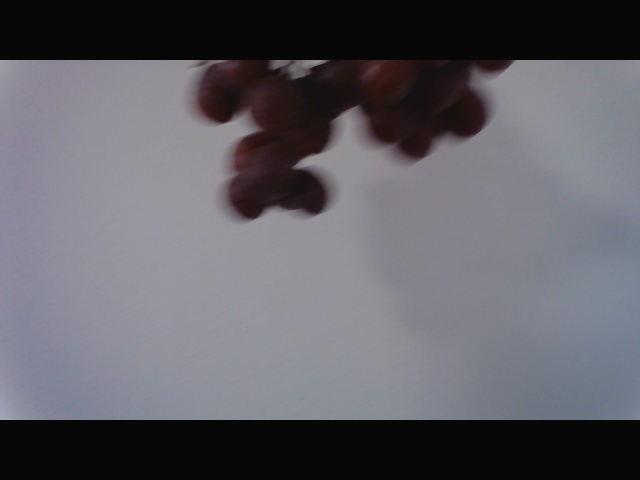grape: (180, 61, 513, 224)
